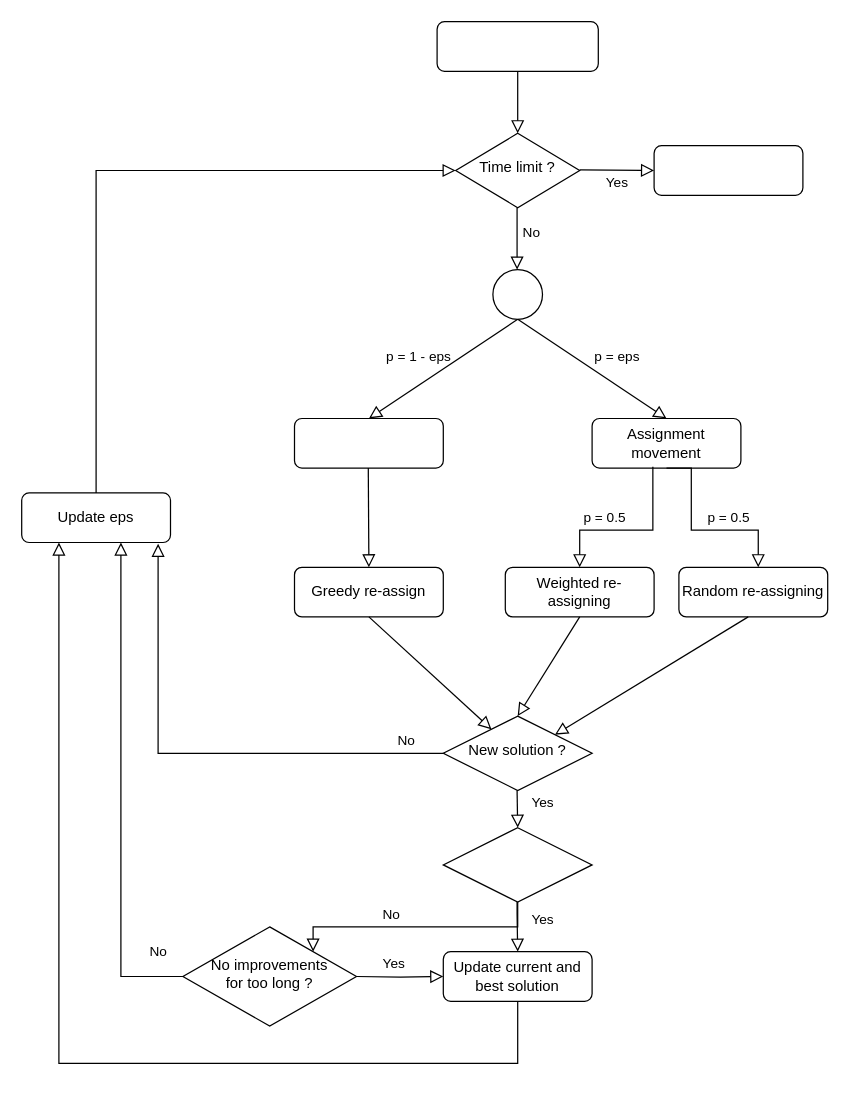
Some shapes in this 849 by 1097 pixel diagram are drawn without their labels. The box of each missing label's shape, as (x1, y1, x2, y2) in pixels:
Better solution ?: (442, 826, 592, 902)
Facility movement: (293, 417, 443, 468)
Greedy initial solution: (436, 20, 598, 71)
Return best solution: (653, 144, 803, 195)
